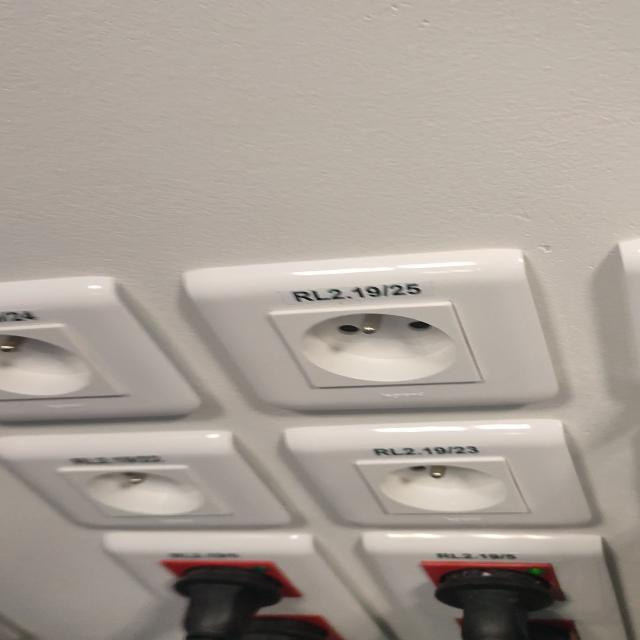house plug: (270, 301, 485, 389), (357, 457, 530, 513), (0, 325, 124, 402), (58, 466, 230, 516)
